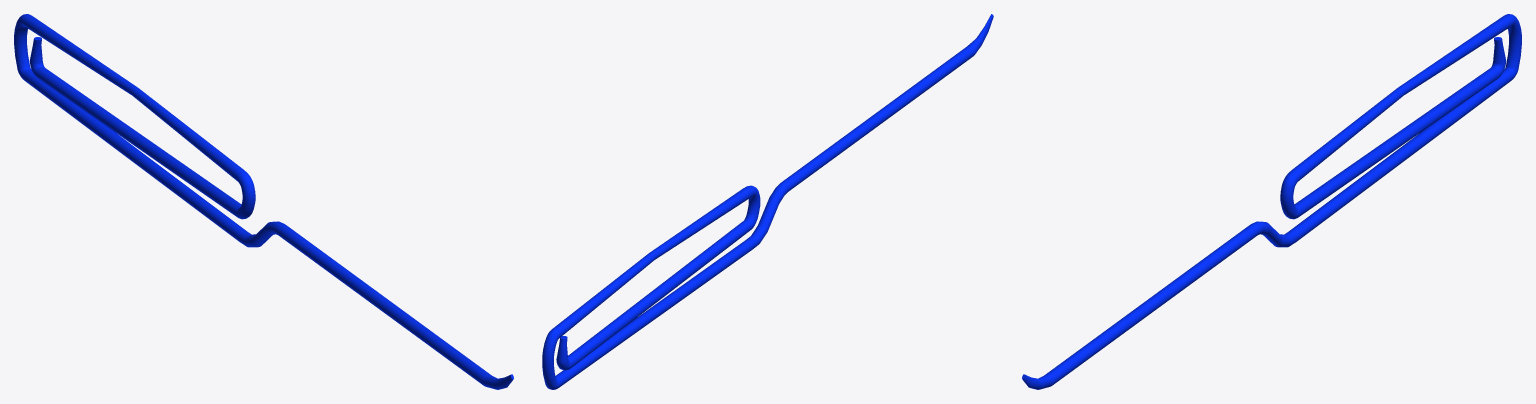
The model's file is Latchkey.FBX.
3 views of the same model, side by side, from view 1: azimuth 30°, elevation 25°; view 2: azimuth 150°, elevation 25°; view 3: azimuth 330°, elevation 25° (orthographic). The views are drawn at different scales.
Visible parts, largest first — view 1: Latchkey_1, Latchkey_0; view 2: Latchkey_1, Latchkey_0; view 3: Latchkey_1, Latchkey_0.
Part boxes in pixels (x1,y1,x2,y2): Latchkey_1: (14, 14, 305, 249); Latchkey_0: (297, 240, 513, 389); Latchkey_1: (542, 167, 808, 389); Latchkey_0: (801, 14, 993, 177); Latchkey_1: (1230, 14, 1521, 249); Latchkey_0: (1022, 240, 1238, 389).
Bounding box in the file's own units: 0.0972 × 0.6262 × 7.38.
